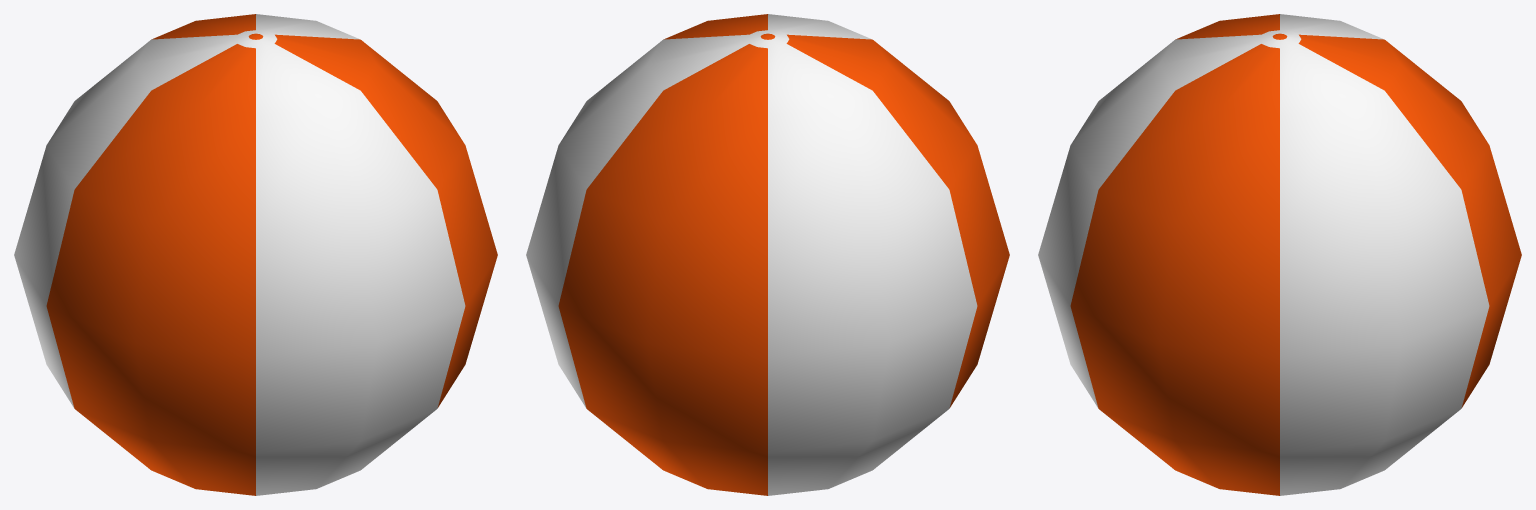
The model's file is Beach_ball_01.fbx.
3 renders of one model, left to right at view 1: azimuth 30°, elevation 25°; view 2: azimuth 150°, elevation 25°; view 3: azimuth 270°, elevation 25°, orthographic.
Visible parts, largest first — view 1: SM_beach_ball_01; view 2: SM_beach_ball_01; view 3: SM_beach_ball_01.
Part boxes in pixels (x1,y1,x2,y2): SM_beach_ball_01: [14, 14, 497, 495]; SM_beach_ball_01: [526, 14, 1009, 495]; SM_beach_ball_01: [1038, 14, 1521, 495].
Size of the model in its own units: 62.76 by 62.76 by 62.76.
1 material, 1 textured.
